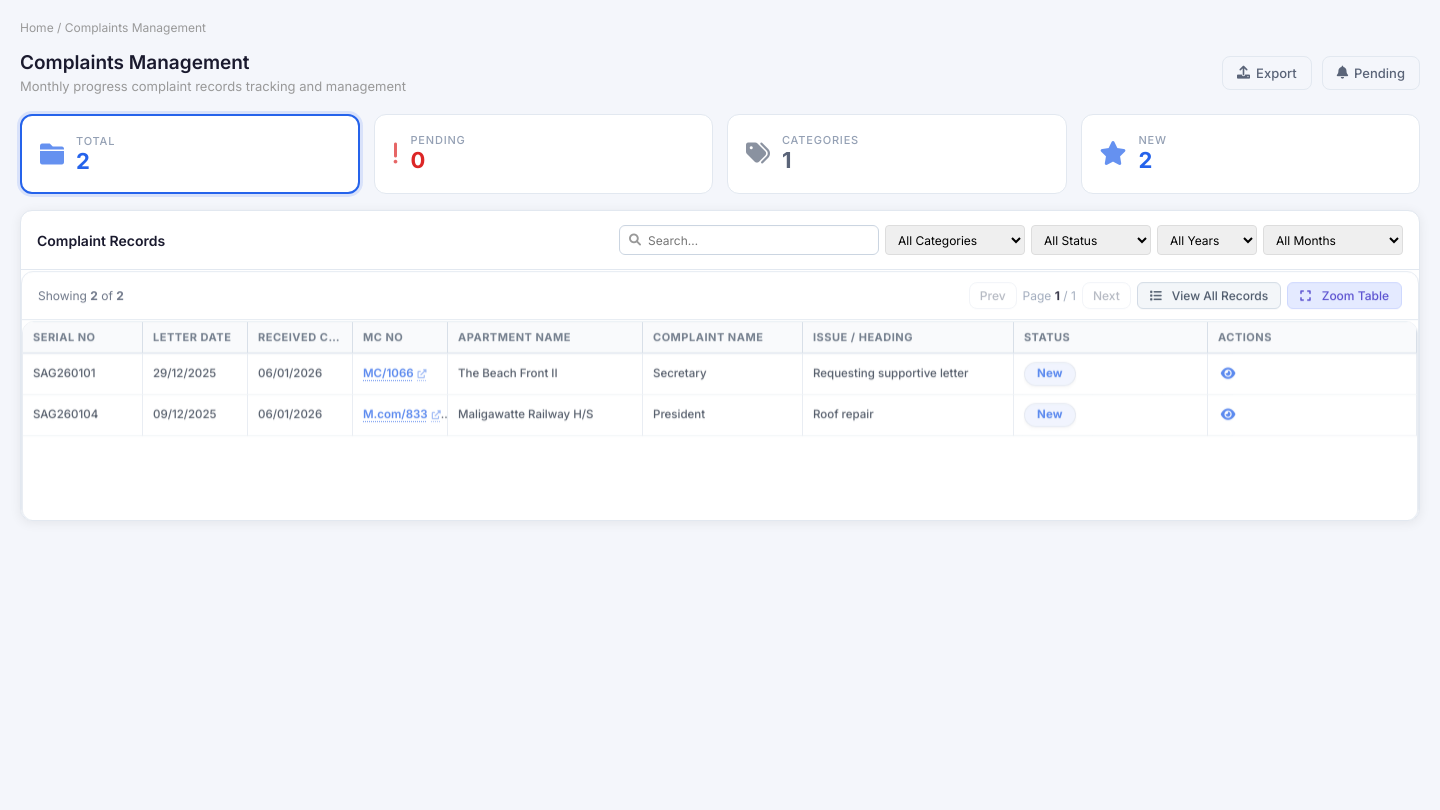
Complaints table row click & MC link navigation › shows permission toast and avoids navigation when non-admin user lacks MC view permission
Click the text "MC/1066". click: (395, 373)
box: [363, 364, 427, 381]
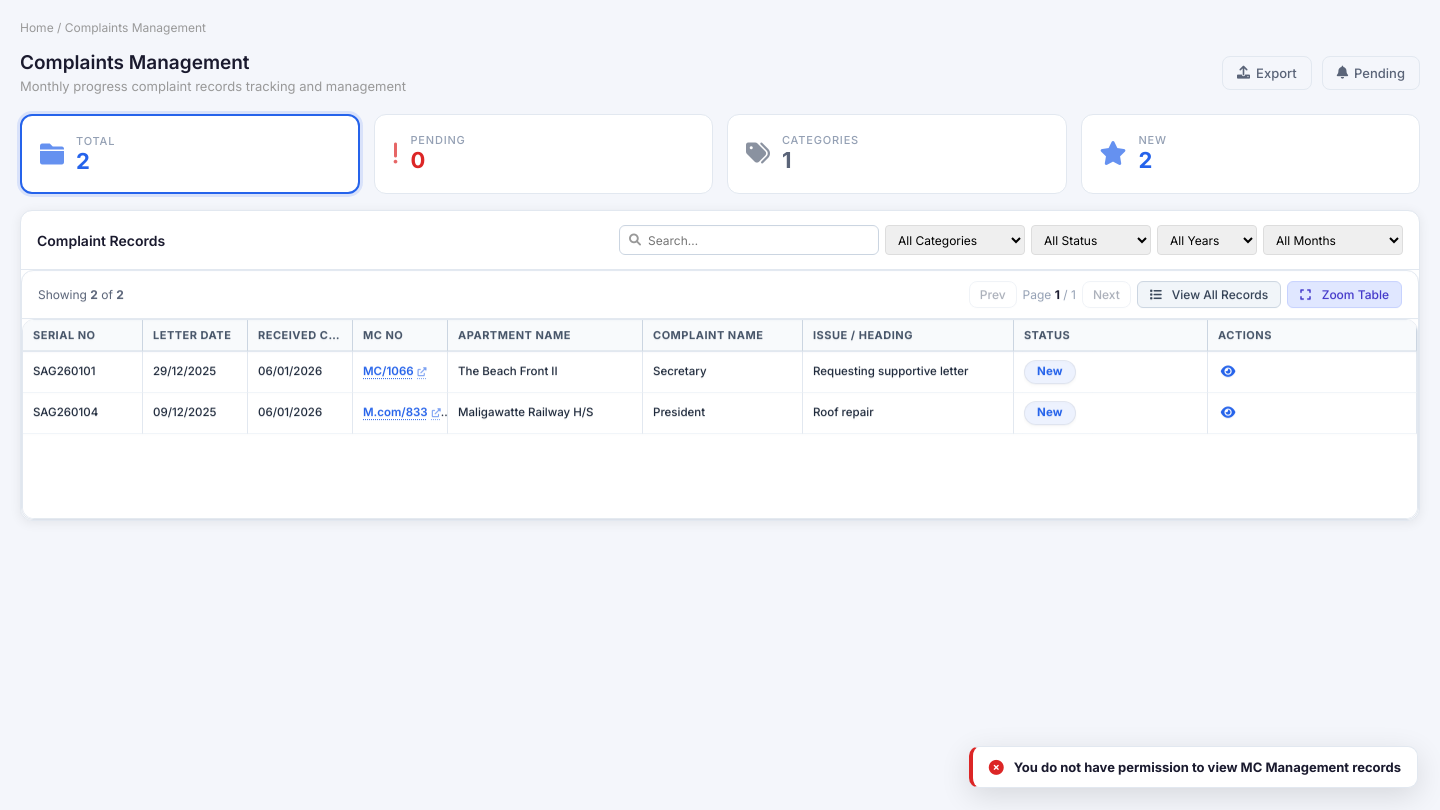
Expected: the text "You do not have permission to view MC Management records" is shown, [1014, 759, 1401, 775]
